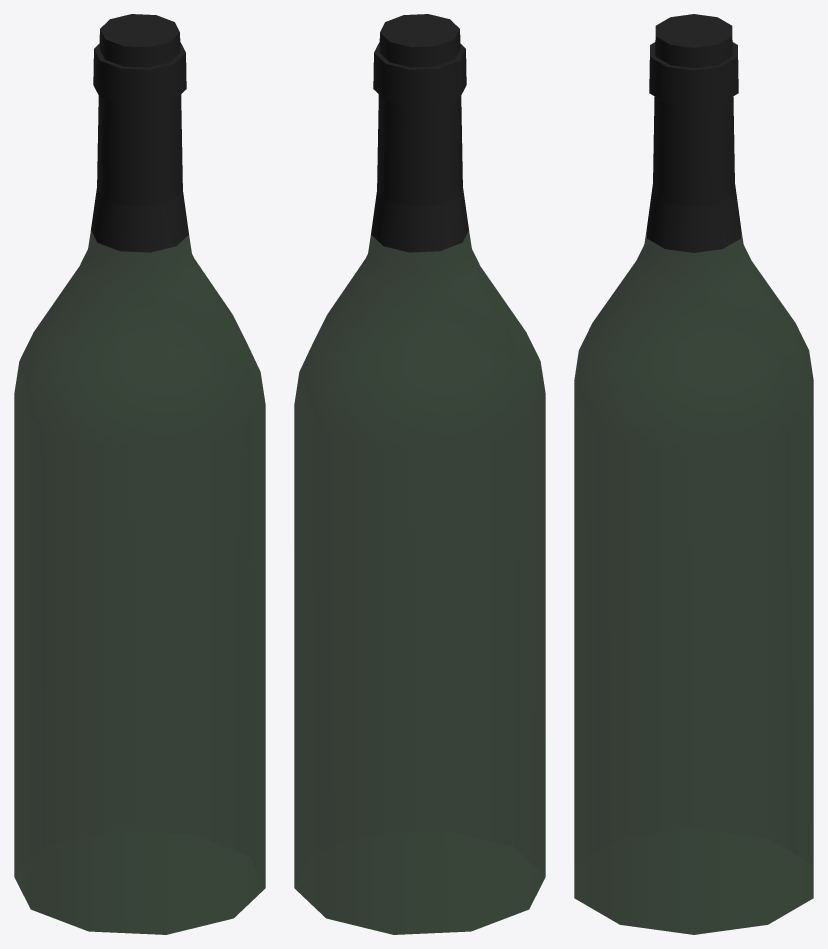
The model's file is SM_WineBottle_B.fbx.
3 views of the same model, side by side, from view 1: azimuth 30°, elevation 25°; view 2: azimuth 150°, elevation 25°; view 3: azimuth 270°, elevation 25° (orthographic).
Parts seen in each view (by area): view 1: WineBottle_B; view 2: WineBottle_B; view 3: WineBottle_B.
Part boxes in pixels (x1=…): WineBottle_B: x1=14, y1=14, x2=265, y2=934; WineBottle_B: x1=294, y1=14, x2=545, y2=934; WineBottle_B: x1=574, y1=14, x2=813, y2=934.
Size of the model in its own units: 164 by 610 by 156.
